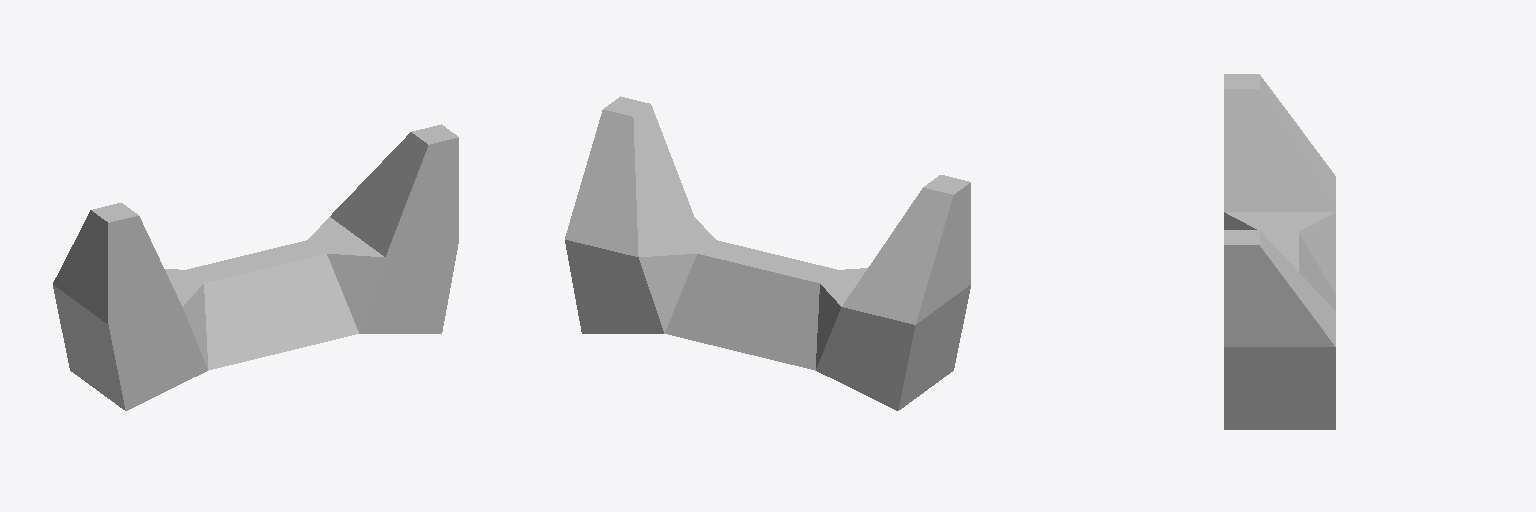
Rendered from holo_sights.obj.
3 views of the same model, side by side, from view 1: azimuth 30°, elevation 25°; view 2: azimuth 150°, elevation 25°; view 3: azimuth 270°, elevation 25° (orthographic).
Visible parts, largest first — view 1: holo_sights; view 2: holo_sights; view 3: holo_sights.
Part boxes in pixels (left/top/right/bottom): holo_sights: left=53, top=124, right=458, bottom=410; holo_sights: left=565, top=96, right=970, bottom=410; holo_sights: left=1224, top=74, right=1335, bottom=429.
Size of the model in its own units: 0.0446 by 0.0234 by 0.0123.